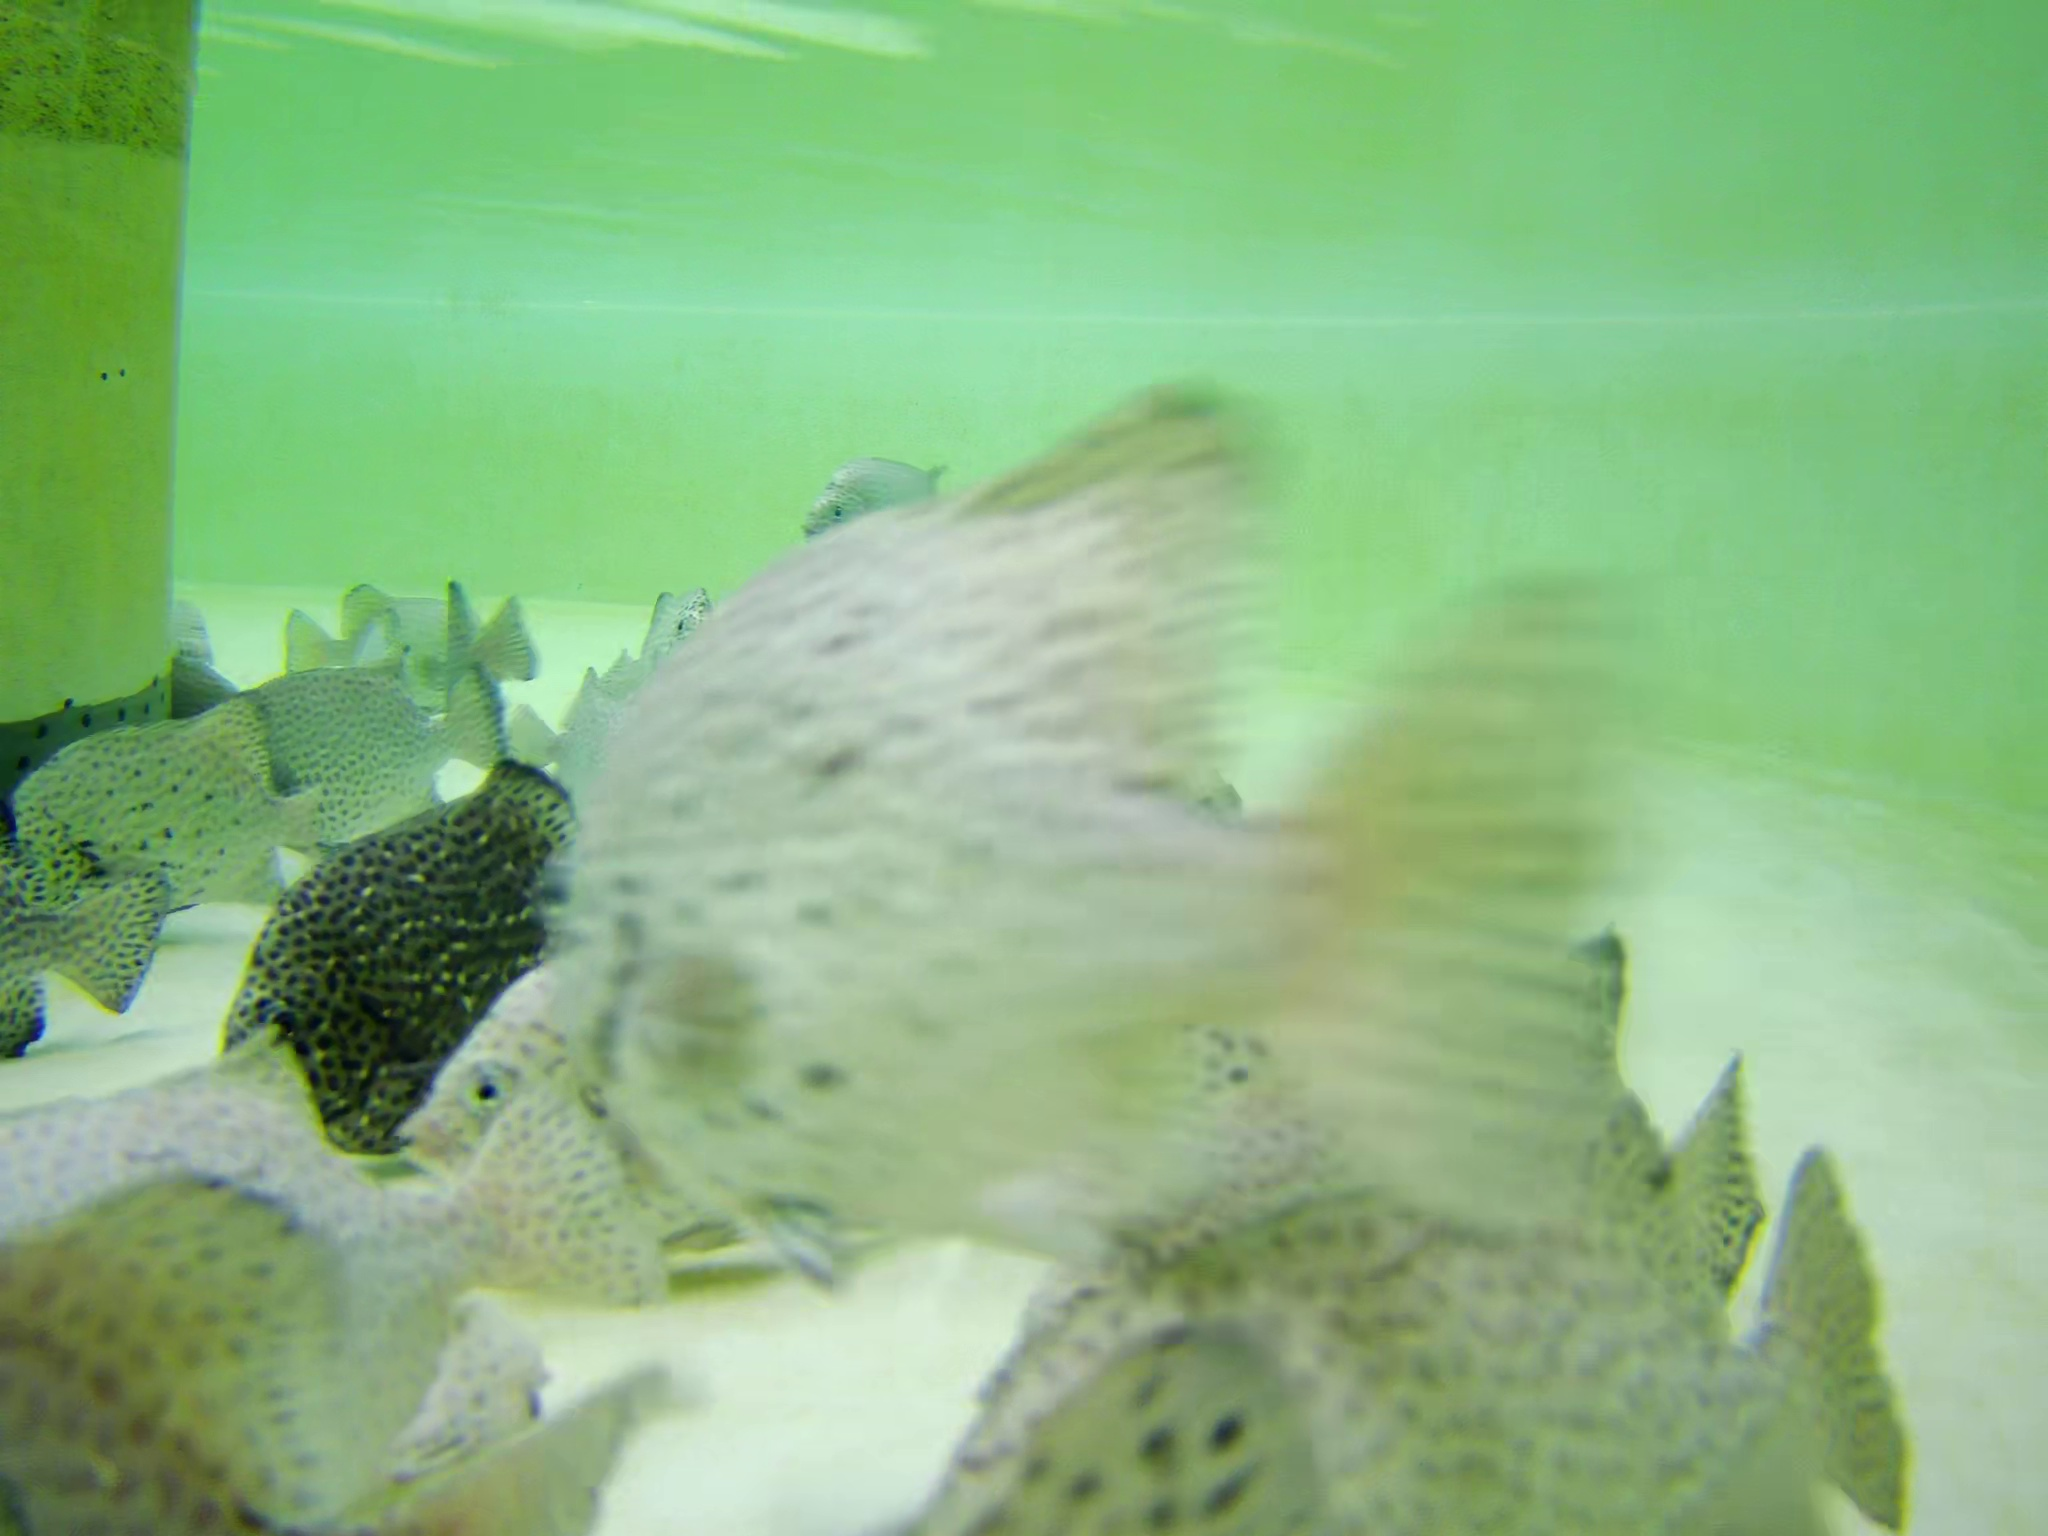fish: (503, 382, 1608, 1275), (847, 1157, 1903, 1536), (3, 1168, 639, 1536), (1197, 913, 1758, 1326), (392, 929, 987, 1236), (234, 770, 584, 1144), (8, 712, 337, 920), (189, 657, 516, 829), (2, 812, 168, 1041), (332, 566, 548, 686), (782, 440, 951, 570), (282, 599, 397, 705)
